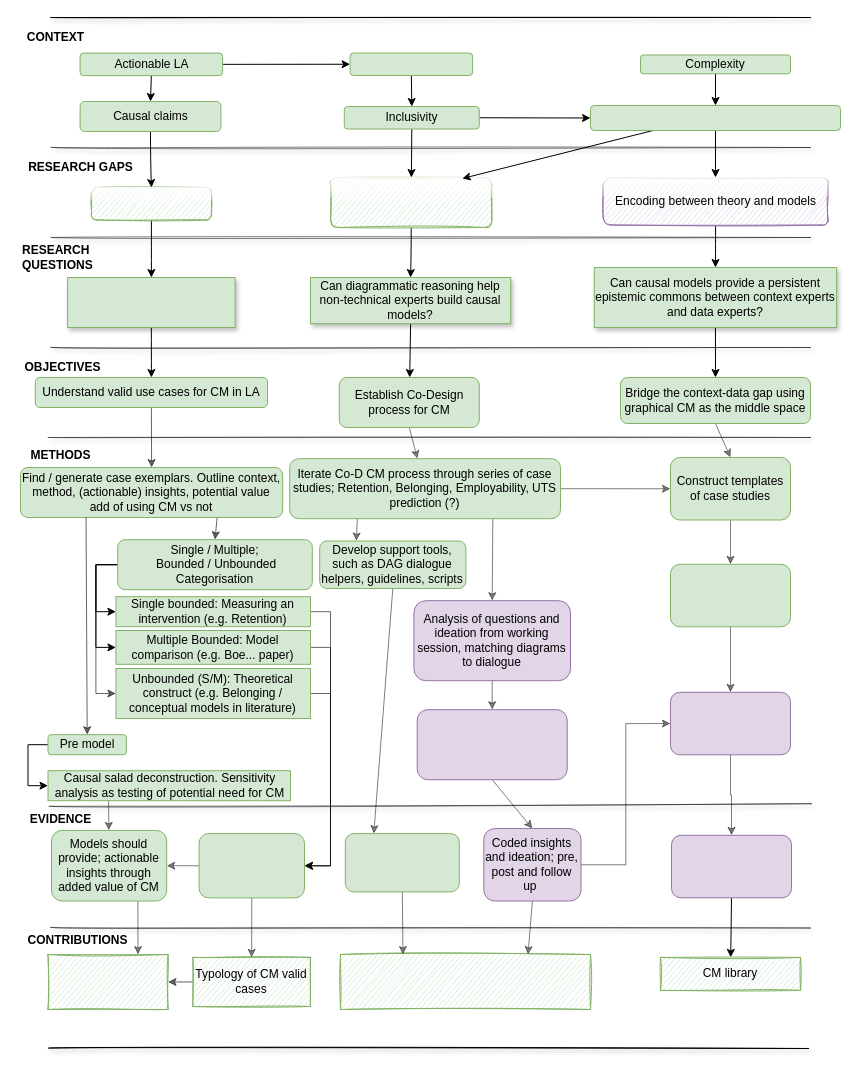
Image size: 860x1067. Some labels were removed from this diagram. The centre of each missing label's shape, as x and y in pixels:
"Build library of CM templates, with implementation examples" goes at pixel 730 723.
"CM Co-Design framework" goes at pixel 465 982.
"Context / Data gap; Models vs Theory" goes at pixel 715 117.
"Critical point vignettes, coding of thinking / question development" goes at pixel 491 744.
"Distribution of types in literature, toy examples where absent" goes at pixel 251 865.
"Find other potential templates in the literature" goes at pixel 730 595.
"GCM in LA" goes at pixel 150 203.
"Guidelines for good CM in LA, and when to use" goes at pixel 107 982.
"Statistical modelling Co-Design tools" goes at pixel 411 202.
"Support tools, e.g.; DAG dialogue helpers" goes at pixel 401 862.
"Transferability of causal model to other people" goes at pixel 731 866.
"Trust" goes at pixel 411 64.
"When should we use causal models in learning analytics?" goes at pixel 152 303.
